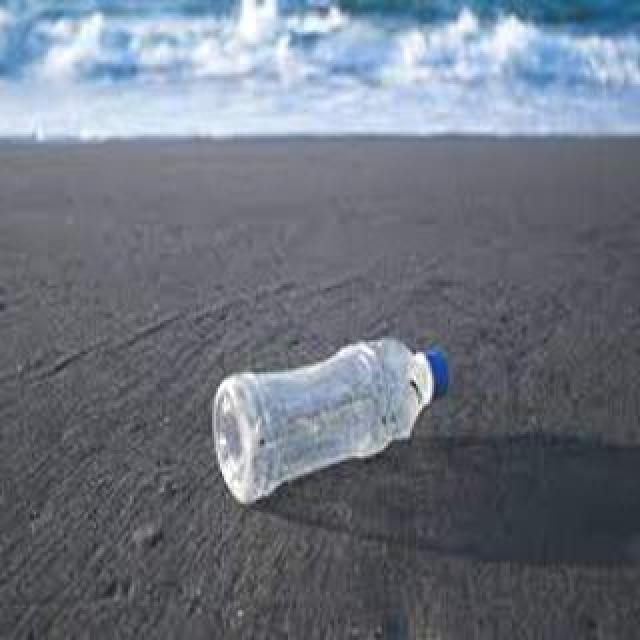Pet_Bottle: (201, 324, 457, 508)
